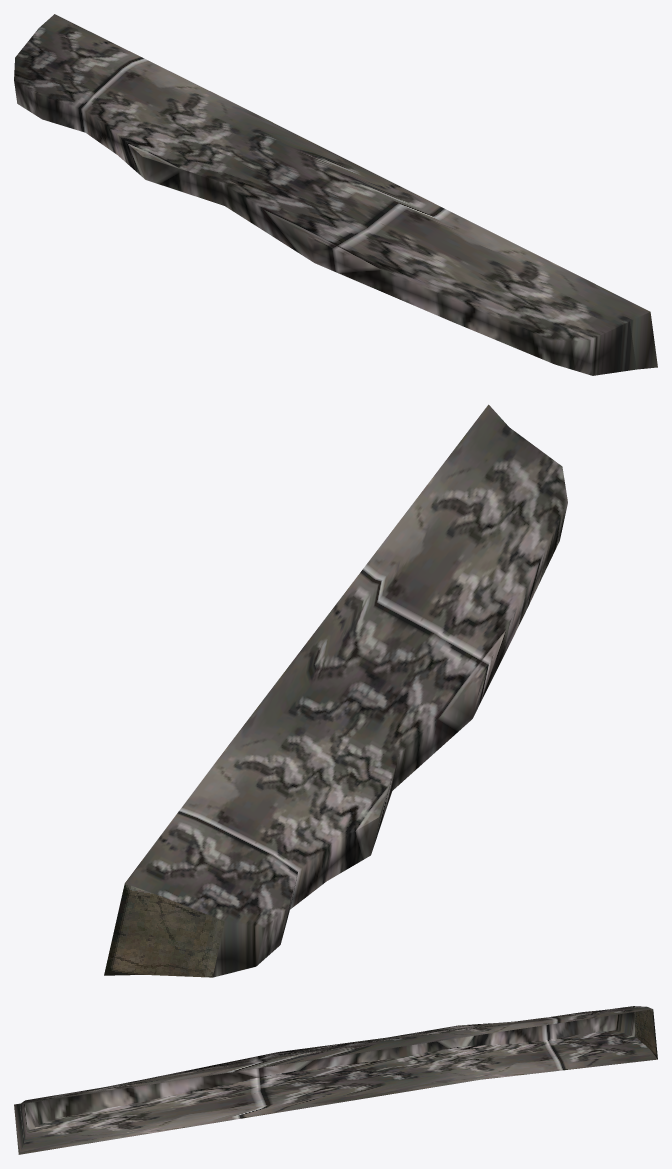
File: CH09_SMAUG_PLAYSURFACE_LAIR50.fbx
3 views of the same model, one above another, from view 1: azimuth 30°, elevation 25°; view 2: azimuth 150°, elevation 25°; view 3: azimuth 270°, elevation 25° (orthographic). The views are drawn at different scales.
Parts seen in each view (by area): view 1: CH09_SMAUG_PLAYSURFACE_LAIR50; view 2: CH09_SMAUG_PLAYSURFACE_LAIR50; view 3: CH09_SMAUG_PLAYSURFACE_LAIR50.
Part boxes in pixels (x1,y1,x2,y2): CH09_SMAUG_PLAYSURFACE_LAIR50: [14, 14, 657, 375]; CH09_SMAUG_PLAYSURFACE_LAIR50: [104, 404, 567, 977]; CH09_SMAUG_PLAYSURFACE_LAIR50: [14, 1006, 657, 1154].
Size of the model in its own units: 26455 by 9603 by 75180.
Materials: 2 (2 with a texture image).
